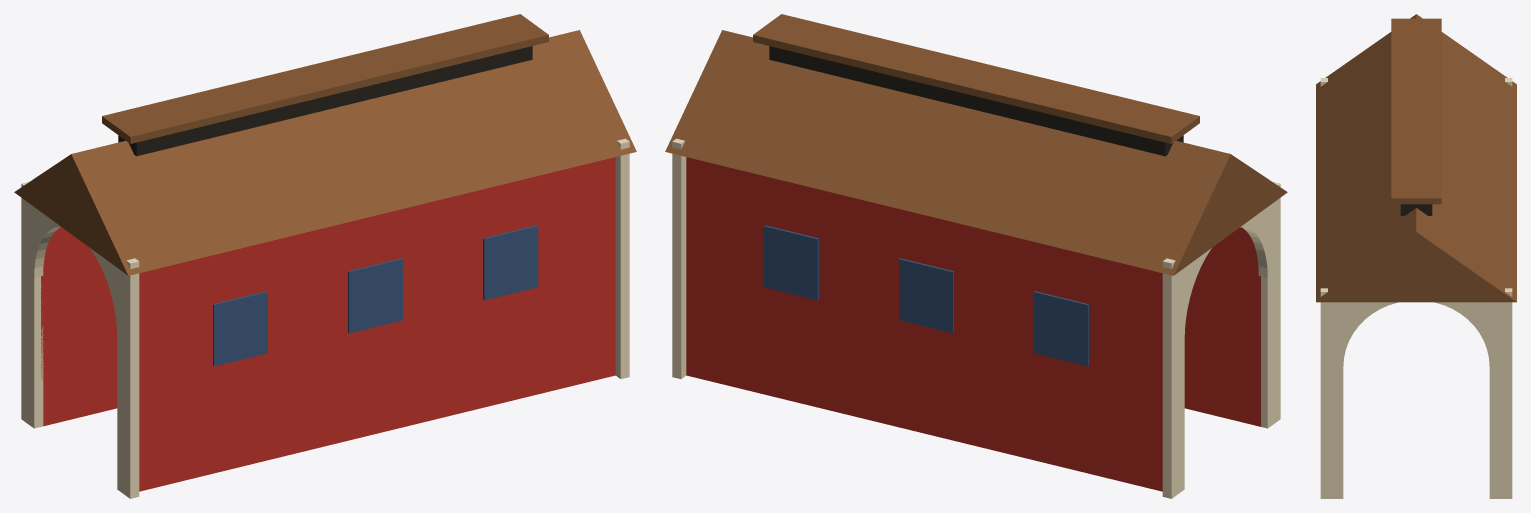
The model's file is engine-shed.glb.
3 renders of one model, left to right at view 1: azimuth 30°, elevation 25°; view 2: azimuth 150°, elevation 25°; view 3: azimuth 270°, elevation 25°, orthographic. The views are drawn at different scales.
Visible parts, largest first — view 1: red, darkWood, cream, glass, black; view 2: red, darkWood, cream, glass, black; view 3: darkWood, cream, black.
Part boxes in pixels (box(x1,y1,x2,y2)): red: box(41, 157, 615, 491); darkWood: box(14, 14, 636, 275); cream: box(21, 138, 629, 498); glass: box(213, 225, 538, 366); black: box(118, 46, 532, 156); red: box(686, 157, 1260, 491); darkWood: box(665, 14, 1287, 275); cream: box(672, 138, 1280, 498); glass: box(763, 225, 1088, 366); black: box(769, 46, 1183, 156); darkWood: box(1316, 14, 1516, 302); cream: box(1320, 78, 1512, 498); black: box(1400, 204, 1432, 215).
Size of the model in its own units: 226 by 137 by 88.
